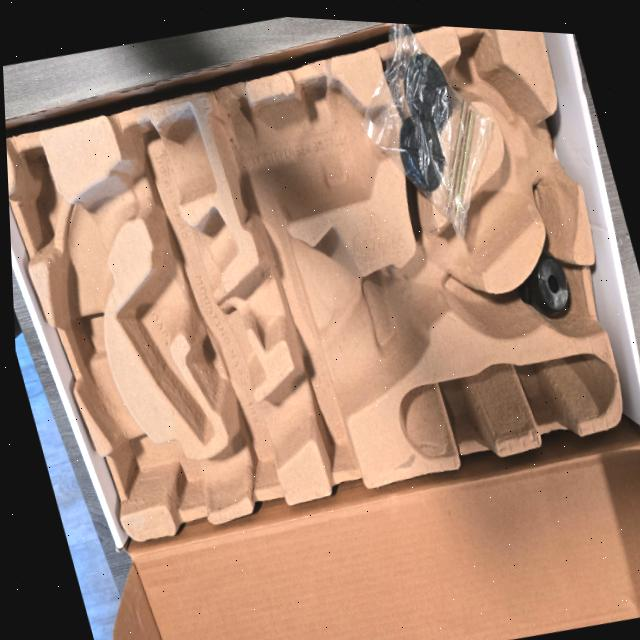1m: (50, 108, 576, 511)
2m: (117, 209, 238, 445)
3m: (206, 74, 399, 226)
4m: (400, 355, 617, 456)
5: (525, 244, 570, 319)
6m: (457, 36, 520, 126)
7: (360, 23, 496, 239)
